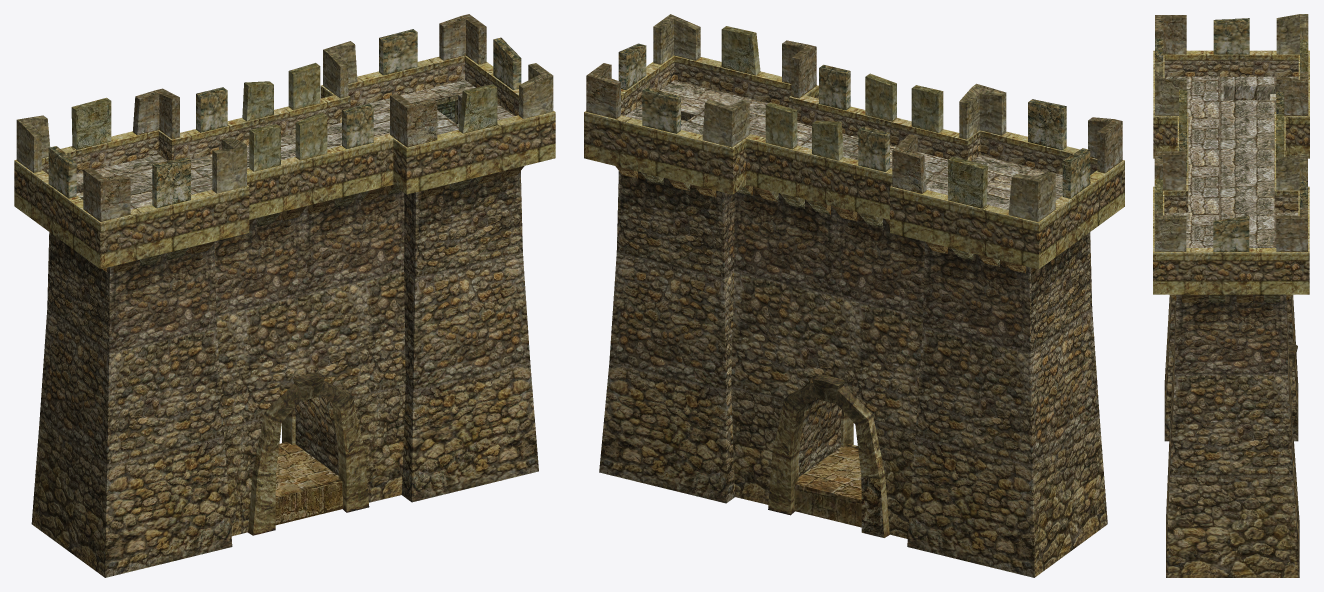
Rendered from hrz19.glb.
3 views of the same model, side by side, from view 1: azimuth 30°, elevation 25°; view 2: azimuth 150°, elevation 25°; view 3: azimuth 270°, elevation 25° (orthographic). The views are drawn at different scales.
Parts seen in each view (by area): view 1: hrz19-col; view 2: hrz19-col; view 3: hrz19-col.
Boxes of the visible parts, x1=… form: hrz19-col: x1=14, y1=14, x2=555, y2=577; hrz19-col: x1=584, y1=14, x2=1124, y2=577; hrz19-col: x1=1153, y1=14, x2=1309, y2=577.
Bounding box in the file's own units: 17.46 × 14.79 × 5.72.
Materials: 18 (18 with a texture image).
